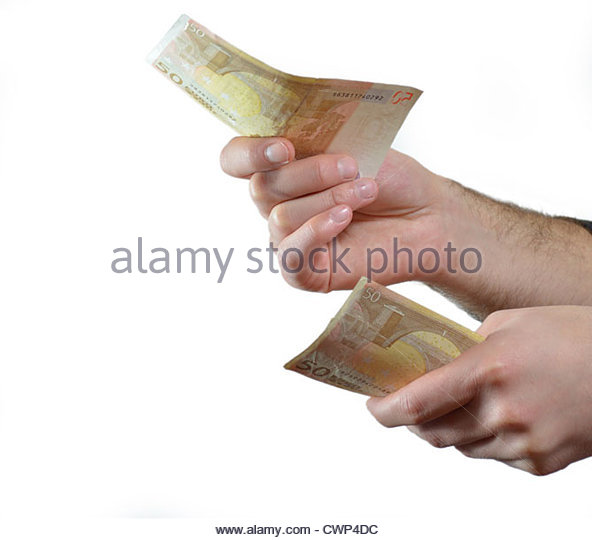billete: (143, 10, 424, 186), (282, 275, 489, 400)
